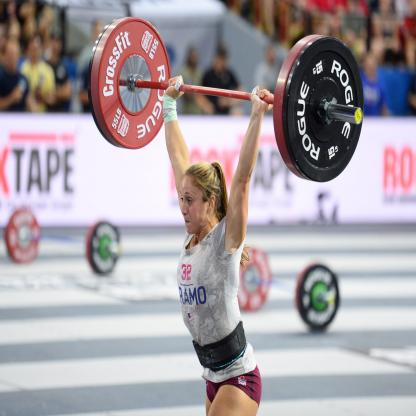barbell: (287, 37, 366, 184), (98, 18, 173, 152)
